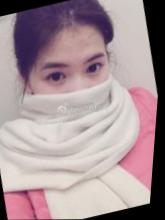WRONG: (16, 29, 128, 136)
